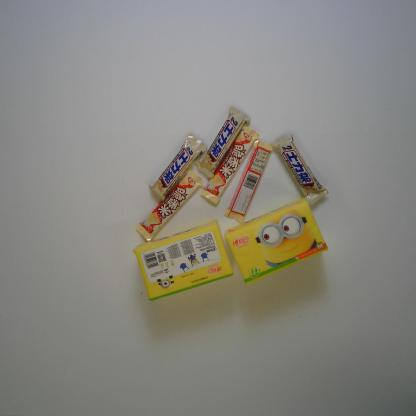Chocolate: (135, 168, 204, 243), (200, 124, 260, 207), (270, 130, 330, 208), (192, 105, 252, 180), (147, 131, 208, 202), (223, 140, 273, 224)
Tissue: (223, 197, 329, 286), (130, 217, 235, 303)
